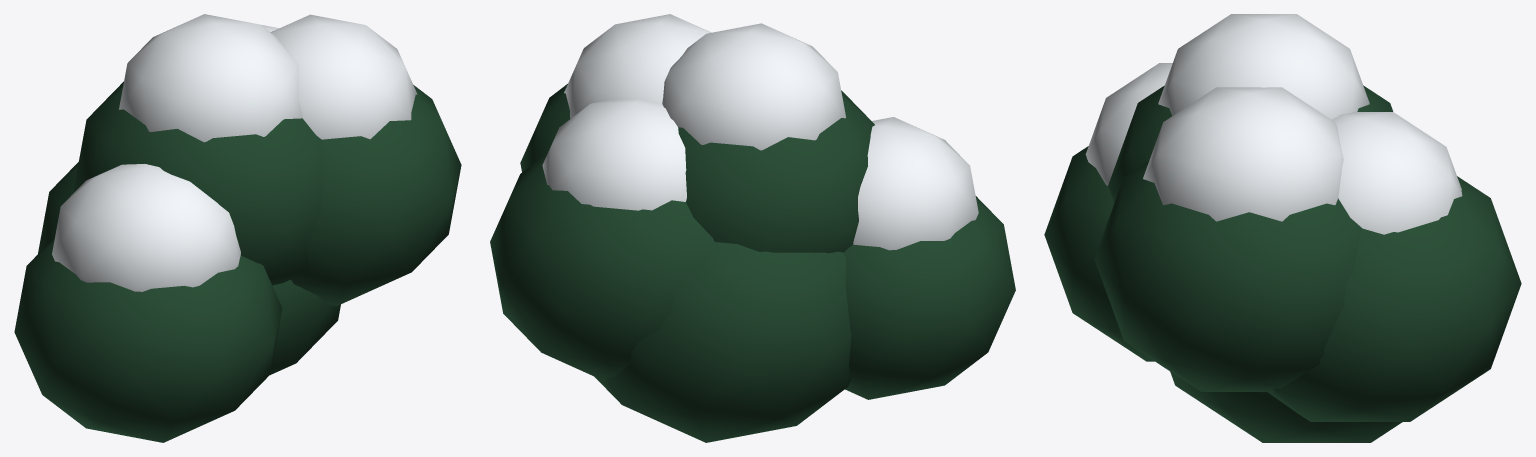
Rendered from buisson_toundra_1.glb.
3 views of the same model, side by side, from view 1: azimuth 30°, elevation 25°; view 2: azimuth 150°, elevation 25°; view 3: azimuth 270°, elevation 25° (orthographic). The views are drawn at different scales.
Parts seen in each view (by area): view 1: arbuste_pin_sombre.002, arbuste_neige.002; view 2: arbuste_pin_sombre.002, arbuste_neige.002; view 3: arbuste_pin_sombre.002, arbuste_neige.002.
Boxes of the visible parts, bbox=[...] form: arbuste_pin_sombre.002: bbox=[14, 81, 461, 442]; arbuste_neige.002: bbox=[52, 14, 417, 291]; arbuste_pin_sombre.002: bbox=[490, 84, 1015, 442]; arbuste_neige.002: bbox=[542, 14, 978, 250]; arbuste_pin_sombre.002: bbox=[1044, 85, 1521, 442]; arbuste_neige.002: bbox=[1085, 14, 1462, 234].
Size of the model in its own units: 0.604 by 0.5106 by 0.5383.
